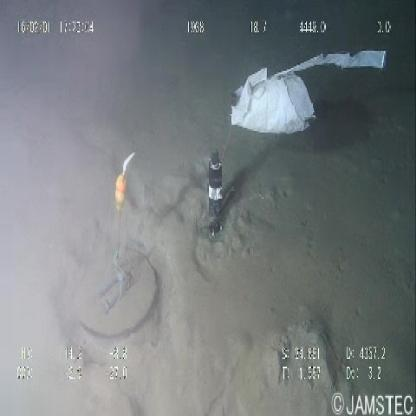Rov: (70, 146, 228, 345)
Rác: (226, 38, 390, 142)
